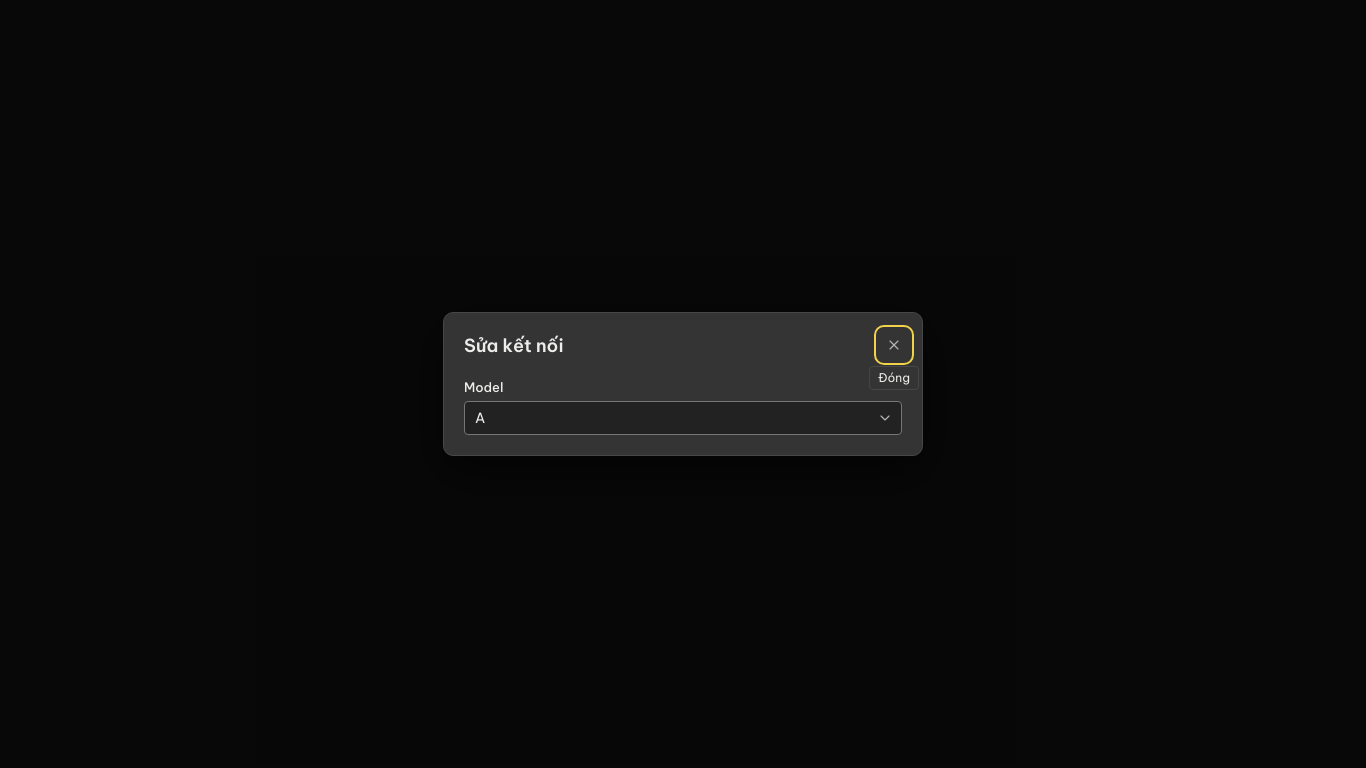
Test case: Esc trong dialog › Esc trong Select đang mở bên trong Modal → chỉ đóng danh sách, modal vẫn mở
Click the dropdown with id "model".
click(480, 418)  # box [464, 401, 902, 435]
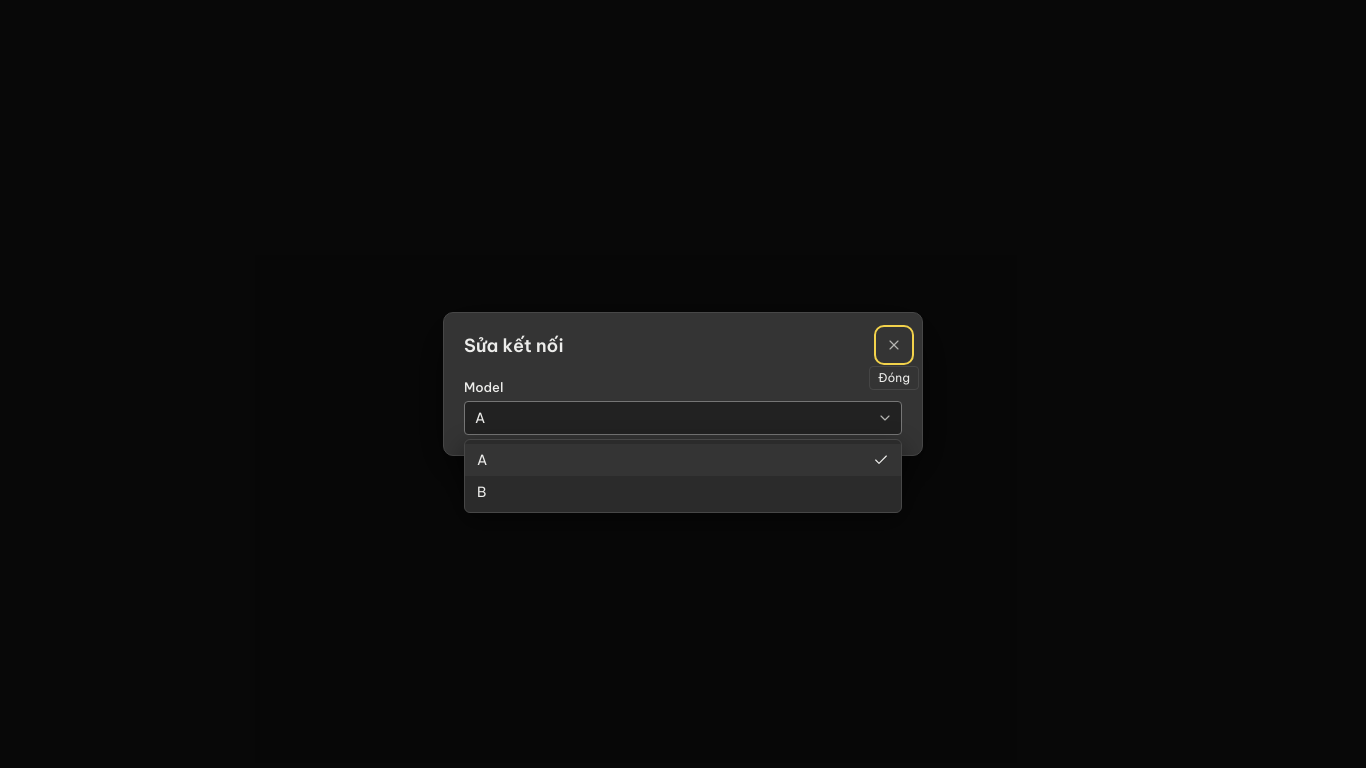
Expected: the list is shown
Press Escape in the list, box [465, 440, 901, 512]
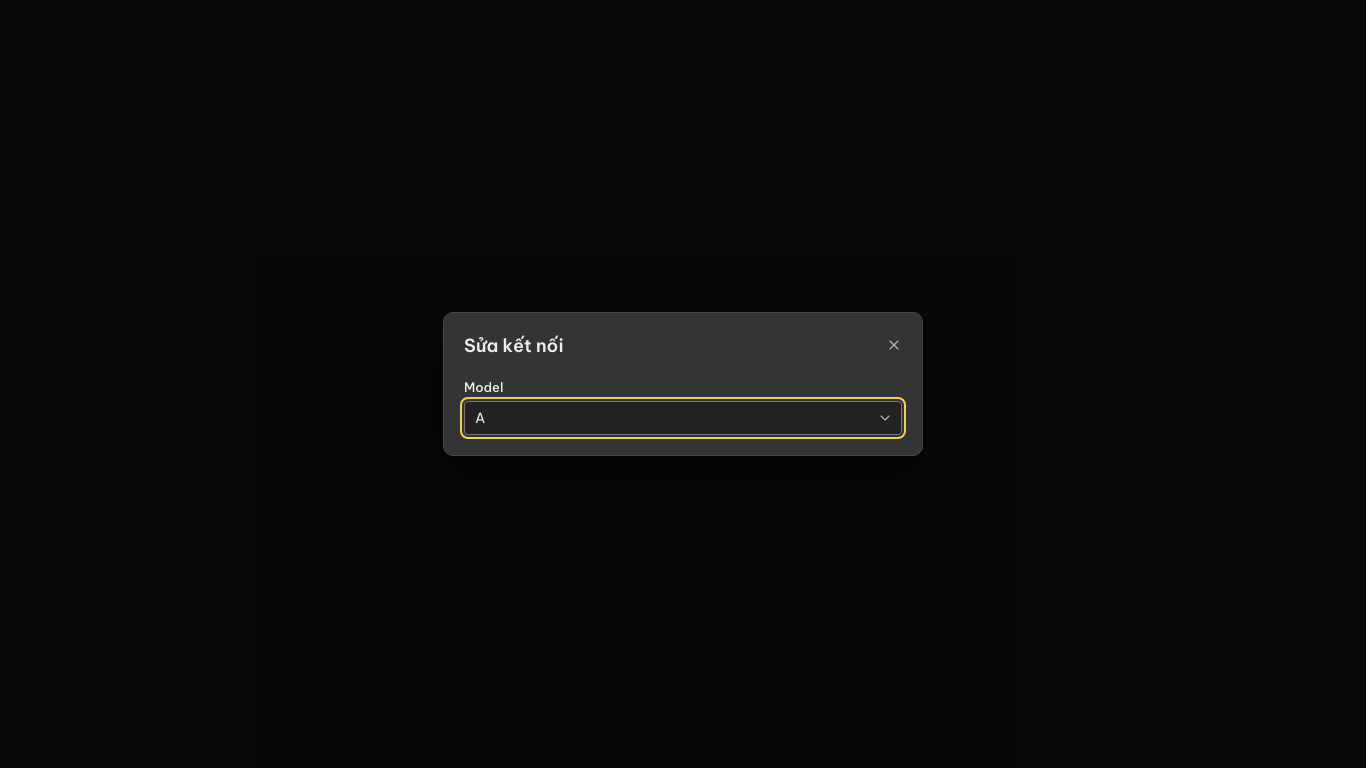
Expected: the dialog is shown, [443, 312, 923, 456]
Expected: the list is gone
